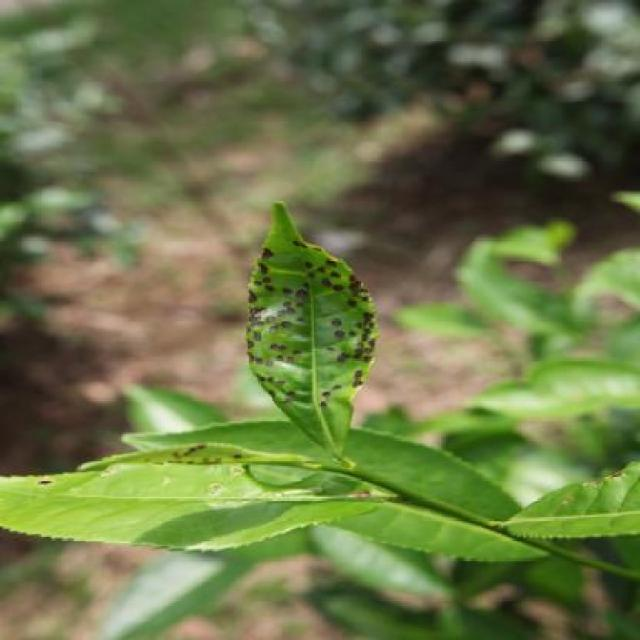Tea Mosquito bug infested leaf: (242, 202, 380, 444)
